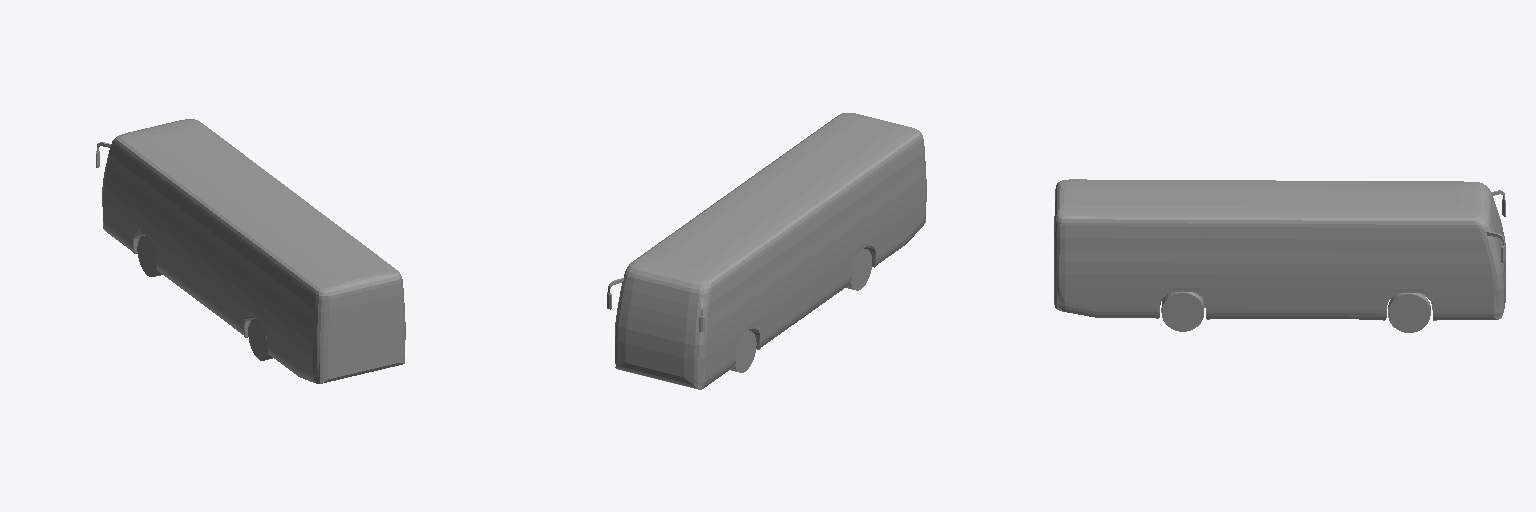
The model's file is buss.obj.
3 renders of one model, left to right at view 1: azimuth 30°, elevation 25°; view 2: azimuth 150°, elevation 25°; view 3: azimuth 270°, elevation 25°, orthographic.
Visible parts, largest first — view 1: Cube_Cube.002, Cylinder.002_Cylinder.003, Cylinder.004_Cylinder.005; view 2: Cube_Cube.002, Cylinder.004_Cylinder.005, Cylinder.002_Cylinder.003; view 3: Cube_Cube.002, Cylinder.005_Cylinder.006, Cylinder.006.
Part boxes in pixels (x1,y1,x2,y2): Cube_Cube.002: (102,119,405,383); Cylinder.002_Cylinder.003: (248,319,272,360); Cylinder.004_Cylinder.005: (137,235,162,276); Cube_Cube.002: (615,113,926,389); Cylinder.004_Cylinder.005: (730,331,756,372); Cylinder.002_Cylinder.003: (846,249,871,290); Cube_Cube.002: (1054,179,1505,320); Cylinder.005_Cylinder.006: (1388,293,1430,332); Cylinder.006: (1161,292,1203,331).
Size of the model in its own units: 0.0506 by 0.0557 by 0.1995.